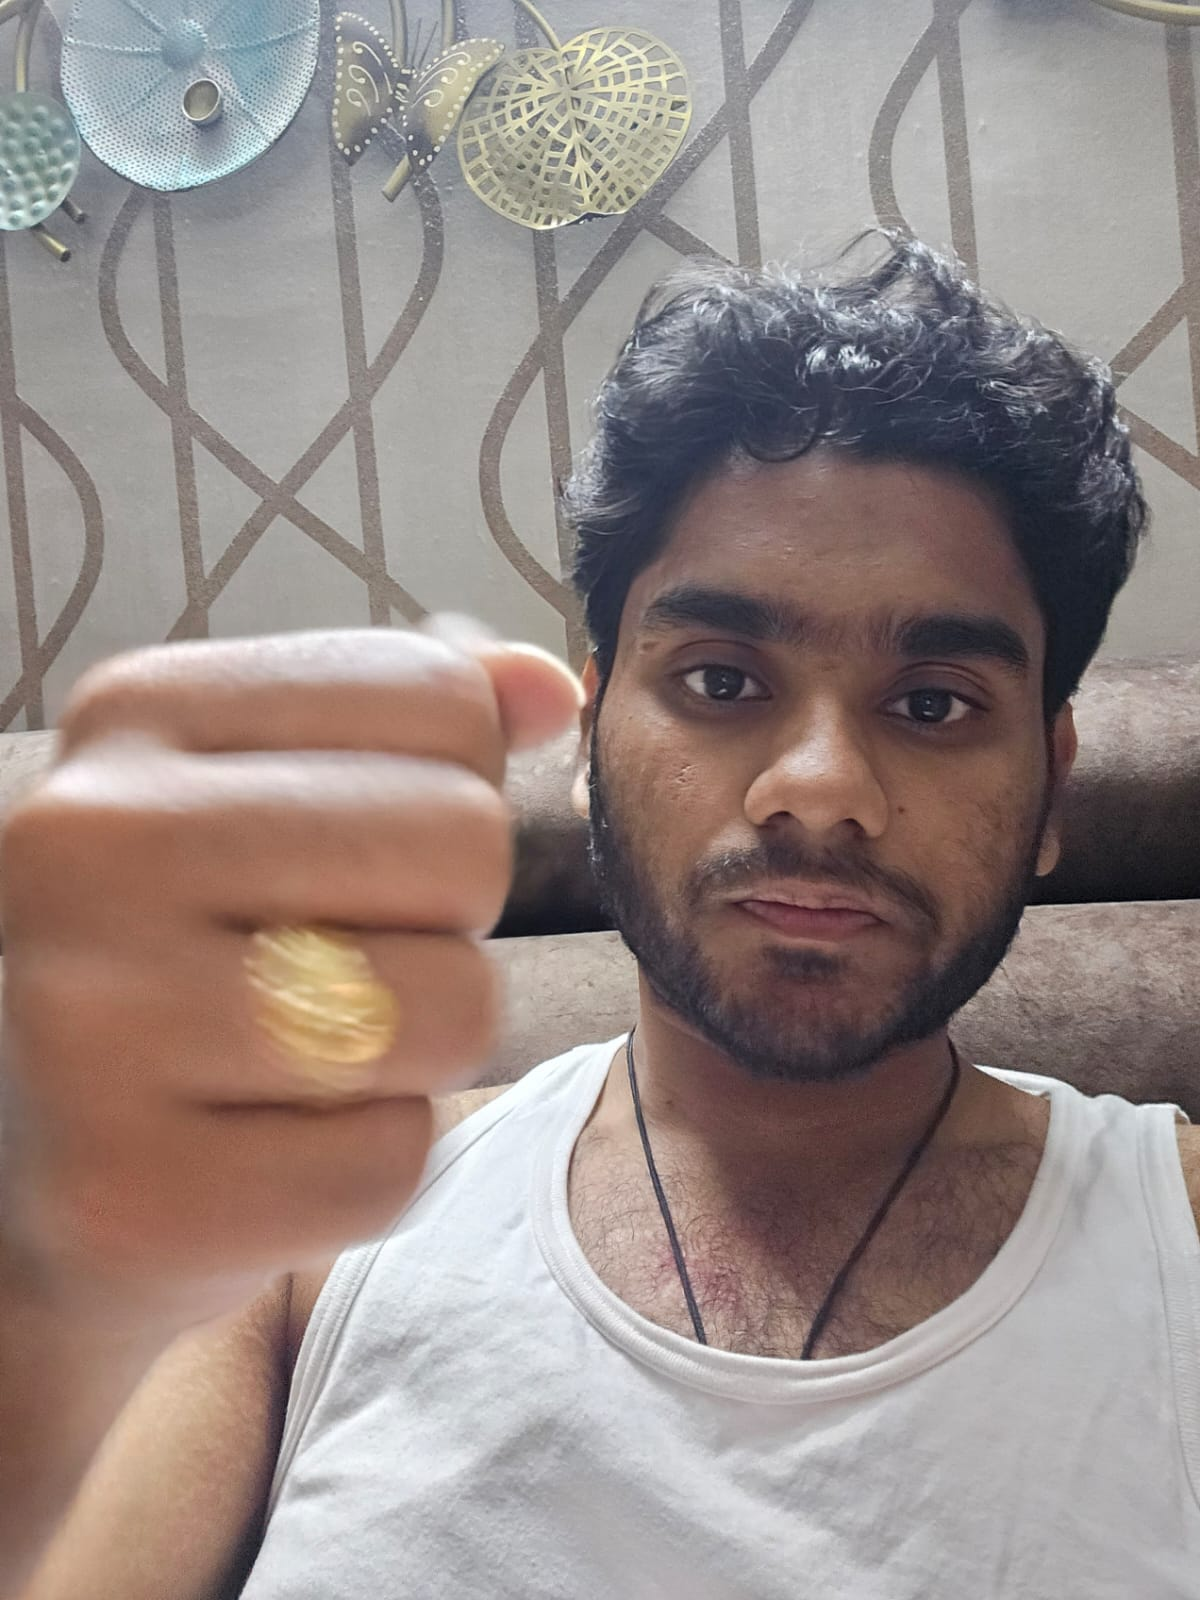yes: (9, 609, 596, 1313)
